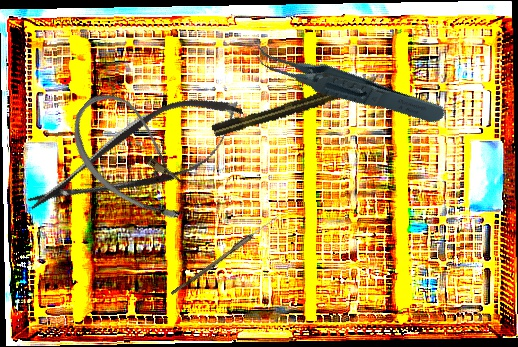Cannula: (52, 80, 215, 236)
Handpiece: (210, 72, 382, 140)
Micro Scissor: (15, 76, 257, 239)
Surgical Spoon: (170, 212, 281, 298)
Tissue Forceps: (246, 3, 448, 161)
